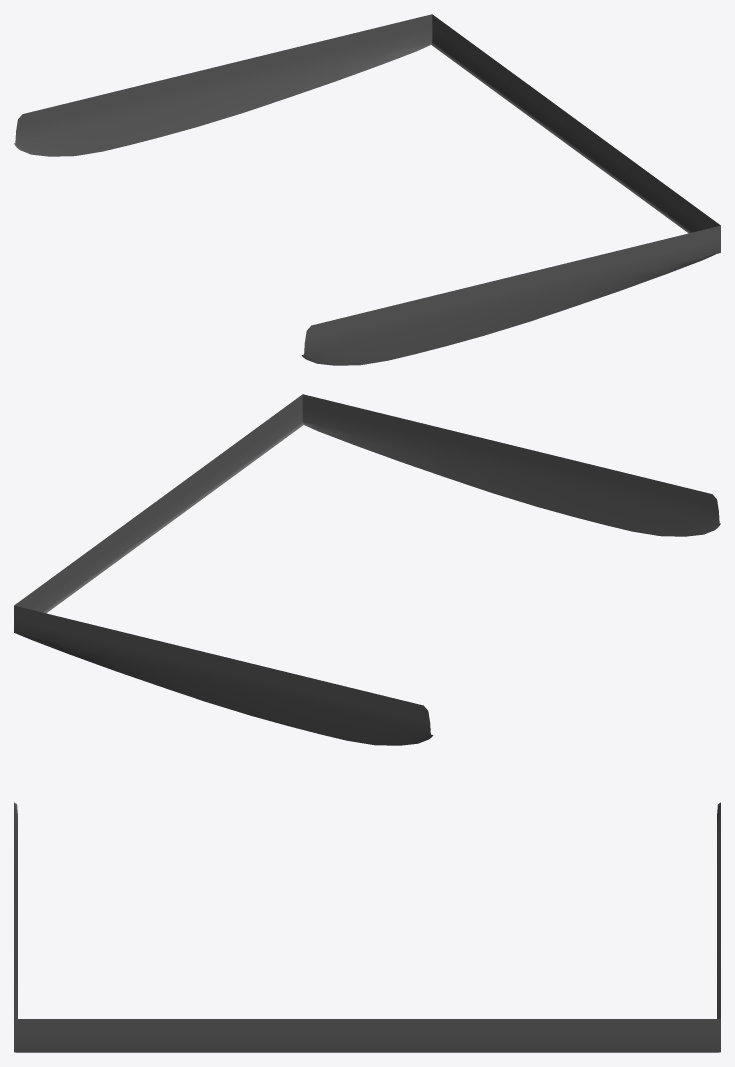
Rendered from Book_20_book_front_20_1.obj.
3 renders of one model, top to bottom at view 1: azimuth 30°, elevation 25°; view 2: azimuth 150°, elevation 25°; view 3: azimuth 270°, elevation 25°, orthographic. The views are drawn at different scales.
Bounding box in the file's own units: 0.2507 × 0.0319 × 0.2998.
1 material, 1 textured.
